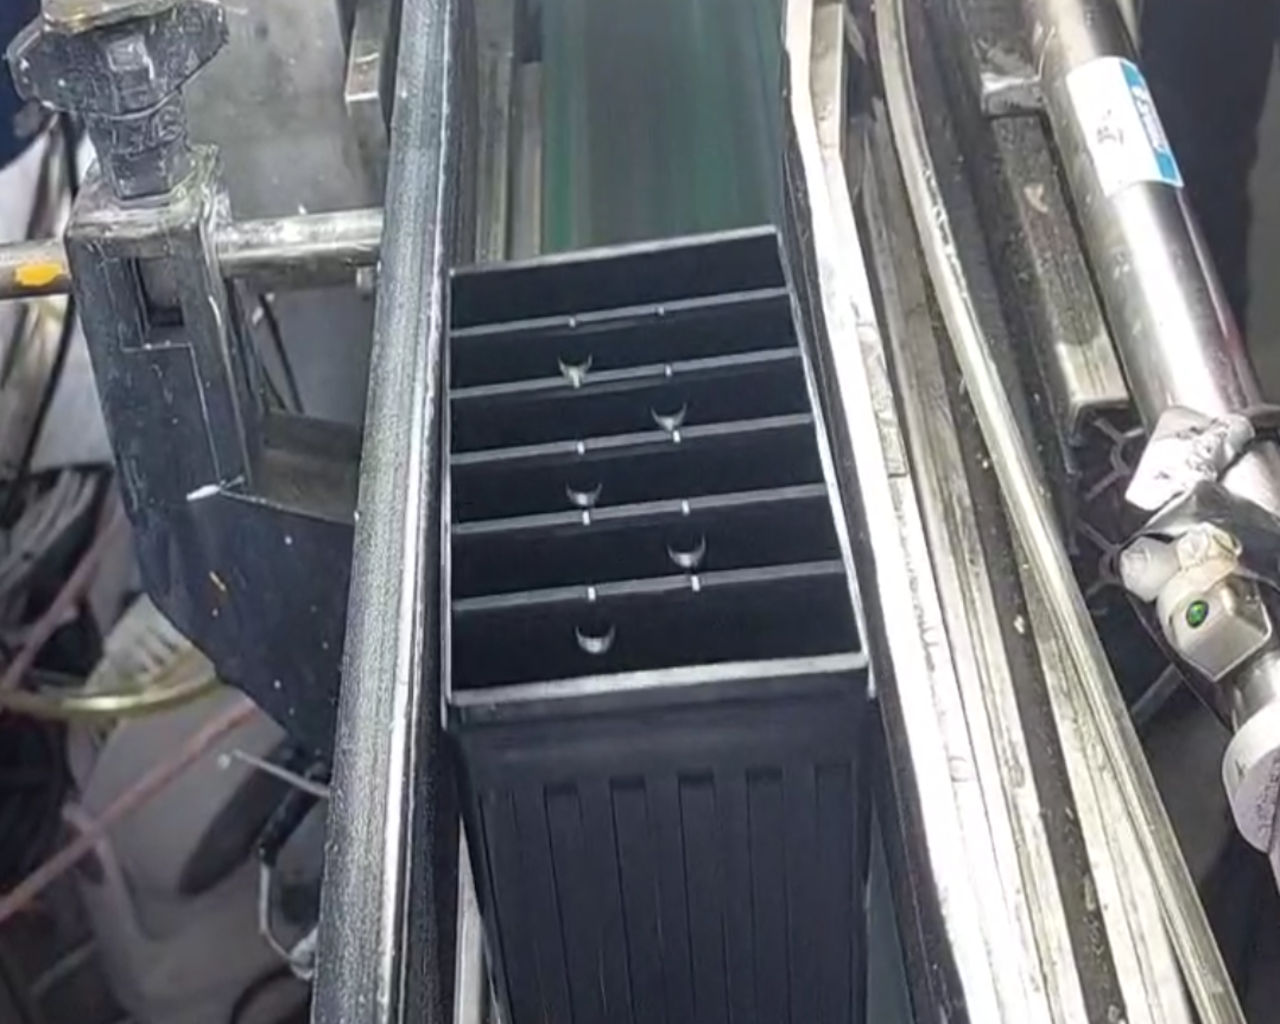box: (399, 204, 897, 729)
round: (552, 598, 634, 660), (646, 517, 720, 580), (632, 374, 698, 434), (545, 458, 616, 513), (538, 333, 605, 386)
